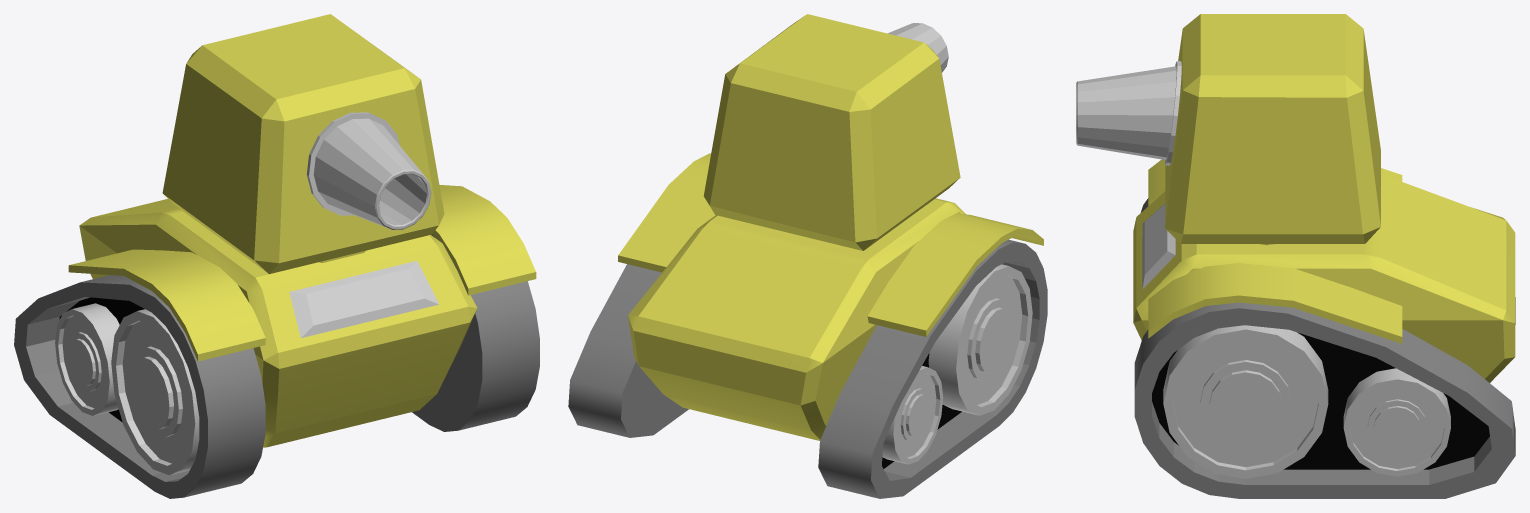
File: Yellow Tank.fbx
3 renders of one model, left to right at view 1: azimuth 30°, elevation 25°; view 2: azimuth 150°, elevation 25°; view 3: azimuth 270°, elevation 25°, orthographic. The views are drawn at different scales.
Visible parts, largest first — view 1: Head, Body, Right_Wheel (×2), Mudguard (×2), Wheelcap_Big, Canon, Wheelcap_Medium; view 2: Head, Body, Right_Wheel (×2), Mudguard (×2), Wheelcap_Big, Wheelcap_Medium, Canon; view 3: Head, Right_Wheel, Body, Wheelcap_Big, Mudguard (×2), Wheelcap_Medium, Canon.
Boxes of the visible parts, <box> form: Head: <box>162,14,444,274</box>; Body: <box>79,199,477,447</box>; Right_Wheel (×2): <box>14,234,539,498</box>; Mudguard (×2): <box>68,185,536,361</box>; Wheelcap_Big: <box>111,309,199,475</box>; Canon: <box>306,112,431,229</box>; Wheelcap_Medium: <box>55,303,119,415</box>; Head: <box>703,14,960,250</box>; Body: <box>628,198,966,440</box>; Right_Wheel (×2): <box>568,239,1047,498</box>; Mudguard (×2): <box>618,153,1043,336</box>; Wheelcap_Big: <box>928,264,1032,415</box>; Wheelcap_Medium: <box>882,366,943,464</box>; Canon: <box>887,23,948,72</box>; Head: <box>1165,14,1380,243</box>; Right_Wheel: <box>1134,302,1515,498</box>; Body: <box>1133,174,1515,382</box>; Wheelcap_Big: <box>1163,325,1328,478</box>; Mudguard (×2): <box>1148,159,1402,343</box>; Wheelcap_Medium: <box>1343,368,1450,476</box>; Canon: <box>1076,61,1181,165</box>.
Bounding box in the file's own units: 99.64 × 108 × 114.
